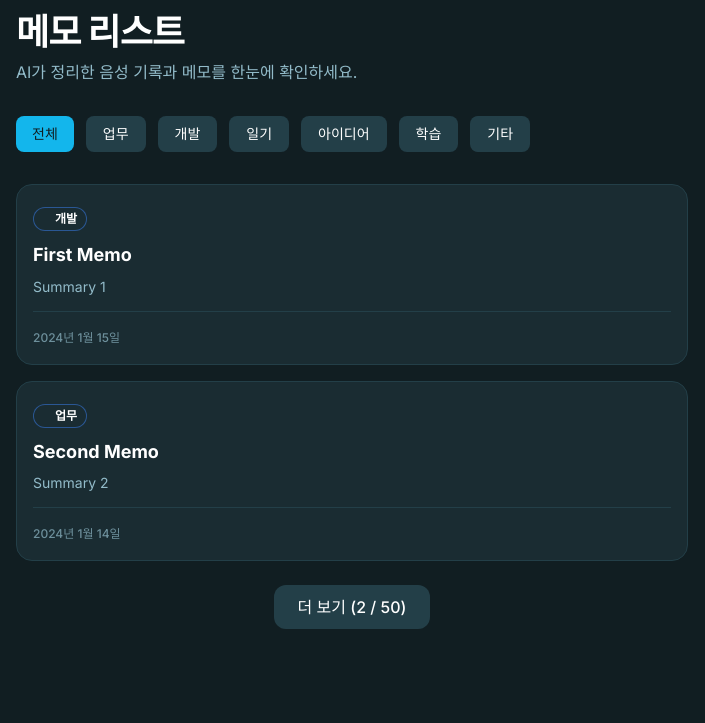
Test: MemoList › pagination › loads more memos when button is clicked
Expected: the heading "First Memo" is shown, [33, 244, 132, 265]
What coordinates should you click on to do the following:
click the button "더 보기 (2 / 50)"
I would click on:
 (352, 607)
Its box is [274, 585, 430, 629].
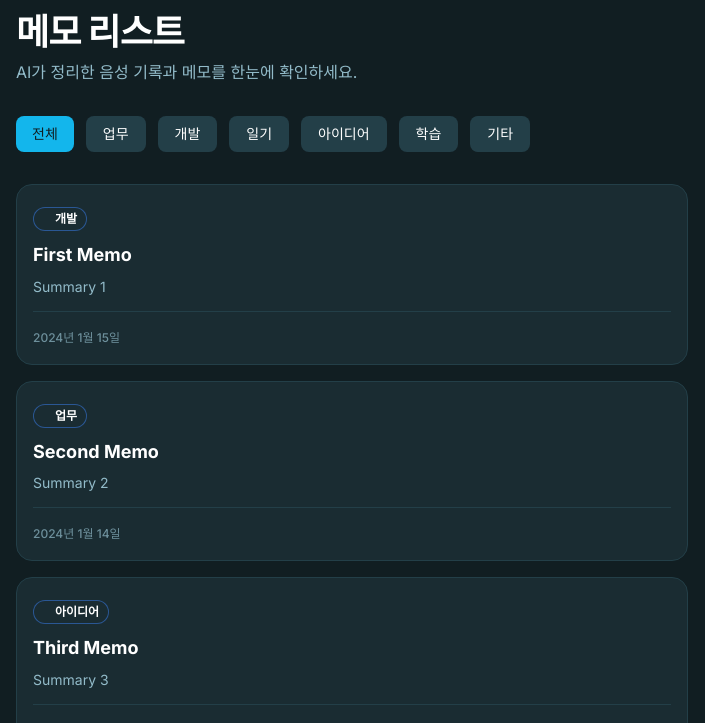
Result: the heading "Third Memo" is shown at [33, 637, 139, 658]
